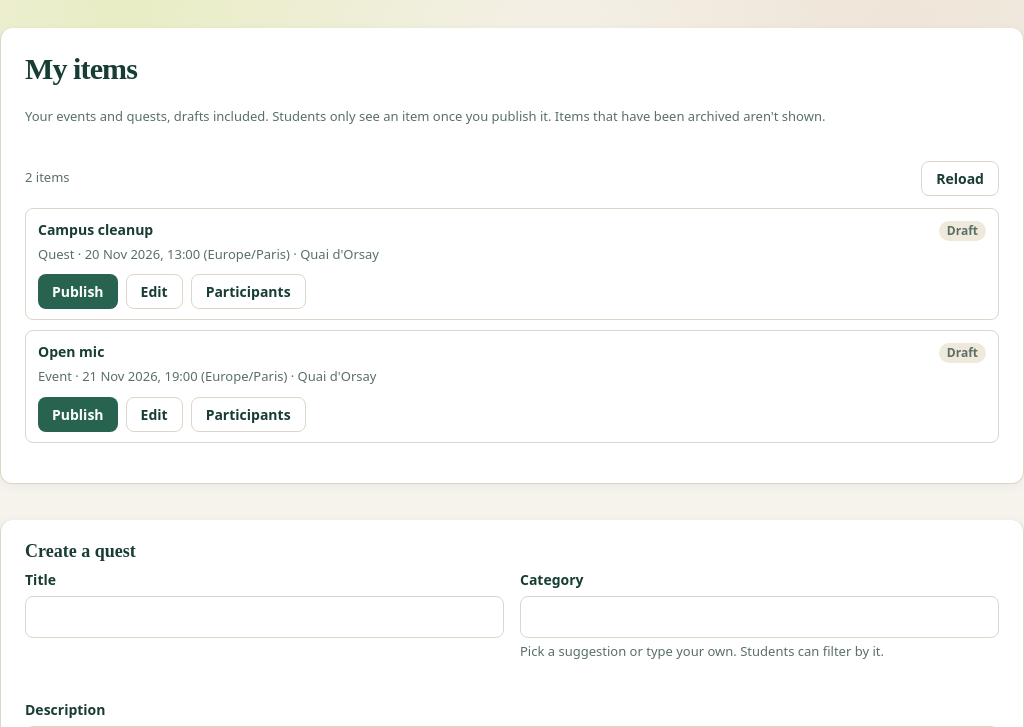
My items and publishing (QB-60) › publishes a draft quest with POST /items/{id}/publish and updates its status
Expected: the text "Campus cleanup" is shown, x1=38 y1=218 x2=153 y2=240
Click the button named "Publish \"Campus cleanup\"" at (78, 292), box x1=38 y1=274 x2=118 y2=309
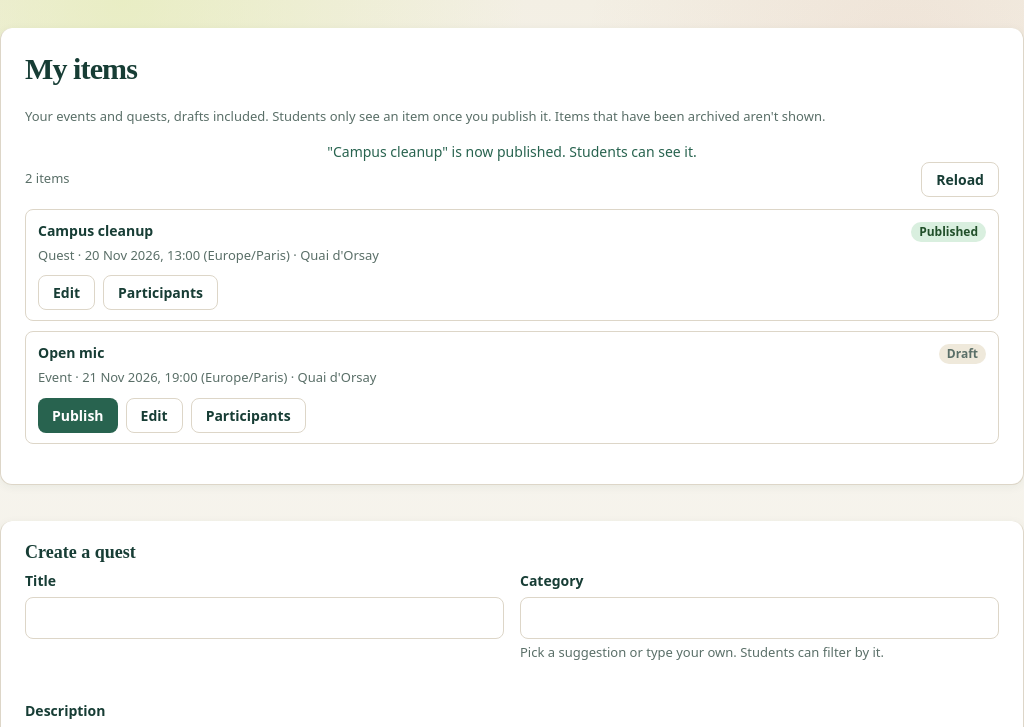
Now the text "\"Campus cleanup\" is now published. Students can see it." is shown, box x1=327 y1=142 x2=697 y2=160
Now the list item "Campus cleanup" shows "Published", box x1=919 y1=222 x2=978 y2=240
